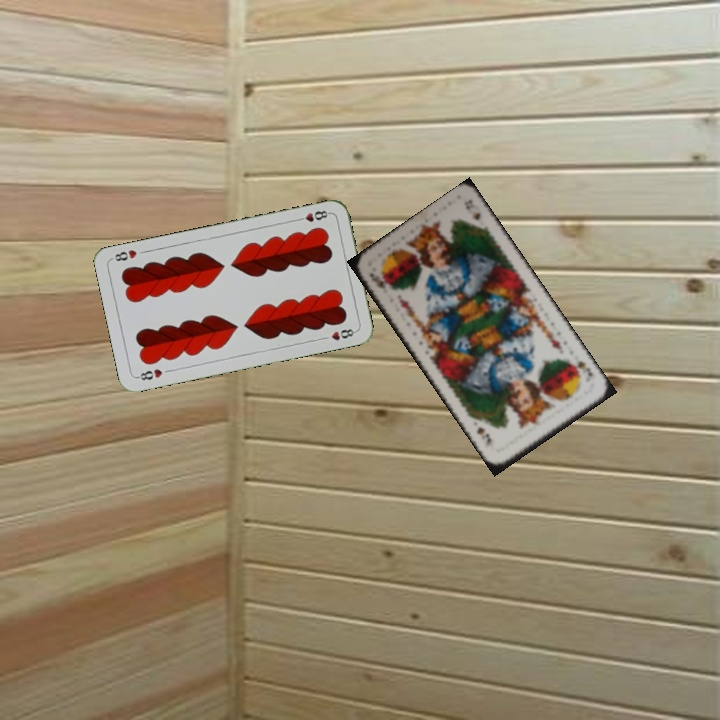H8: (292, 206, 333, 224), (133, 365, 165, 383)
SK: (566, 355, 596, 379), (366, 269, 388, 291)
